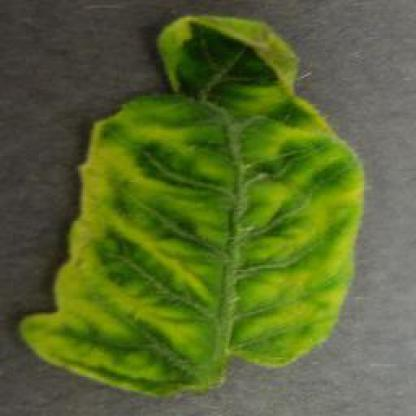bad leaf: (36, 9, 370, 415)
